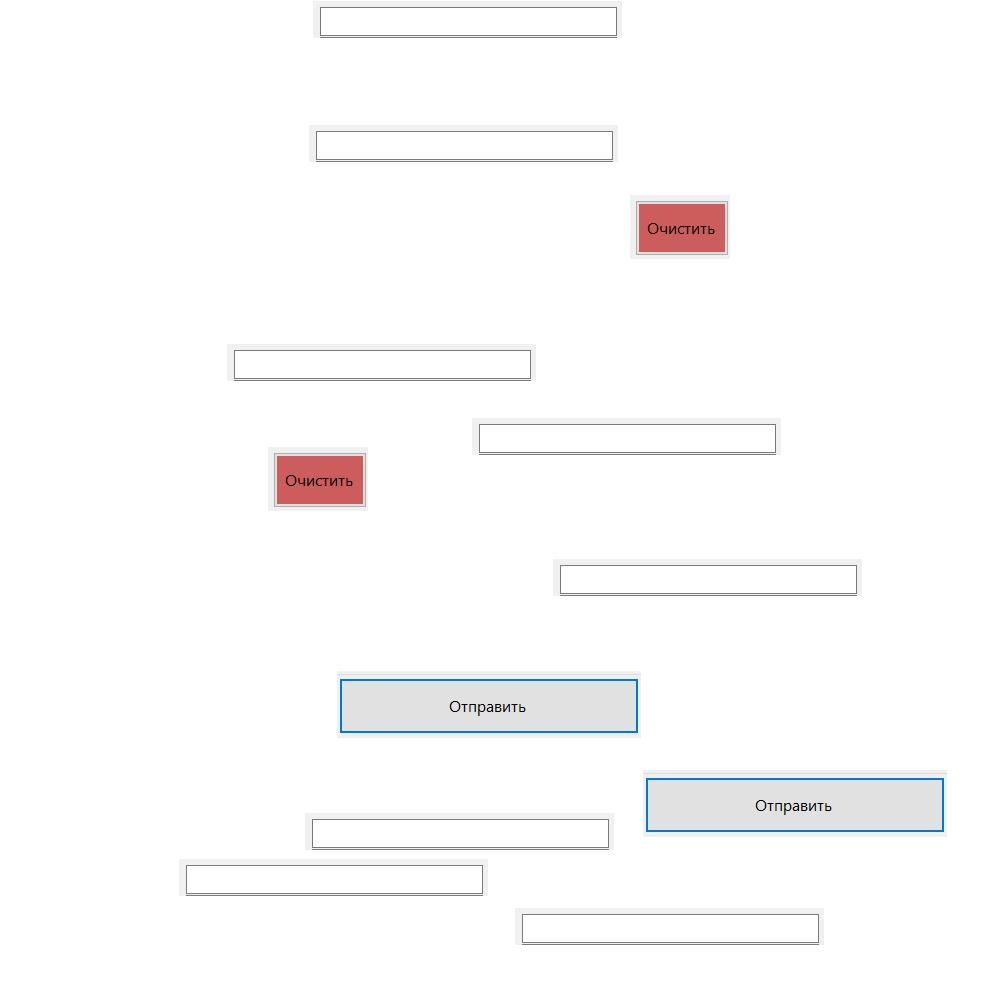Button: (643, 770, 947, 837), (337, 671, 641, 738), (268, 447, 368, 511), (630, 195, 730, 259)
EditText-: (553, 559, 862, 596), (515, 908, 824, 945), (472, 418, 781, 455), (313, 1, 622, 38), (227, 344, 536, 381), (309, 125, 618, 162), (305, 813, 614, 850), (179, 859, 488, 896)
